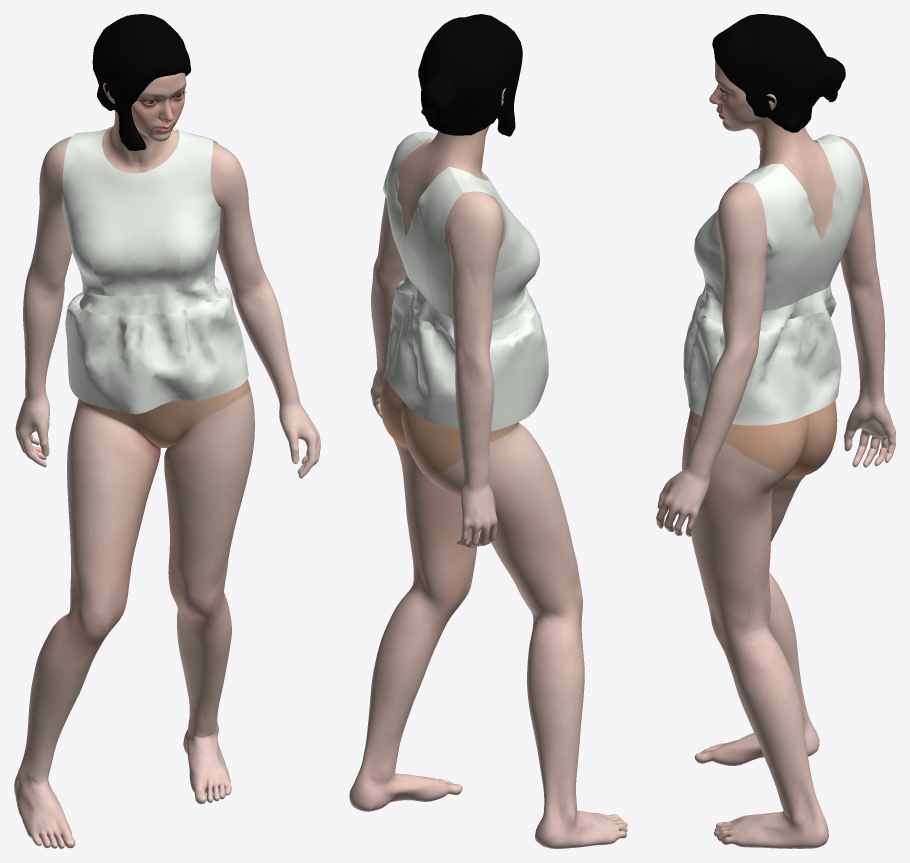
The model's file is Dynamic.obj.
3 renders of one model, left to right at view 1: azimuth 30°, elevation 25°; view 2: azimuth 150°, elevation 25°; view 3: azimuth 270°, elevation 25°, orthographic. The views are drawn at different scales.
Size of the model in its own units: 612 by 1724 by 471.
